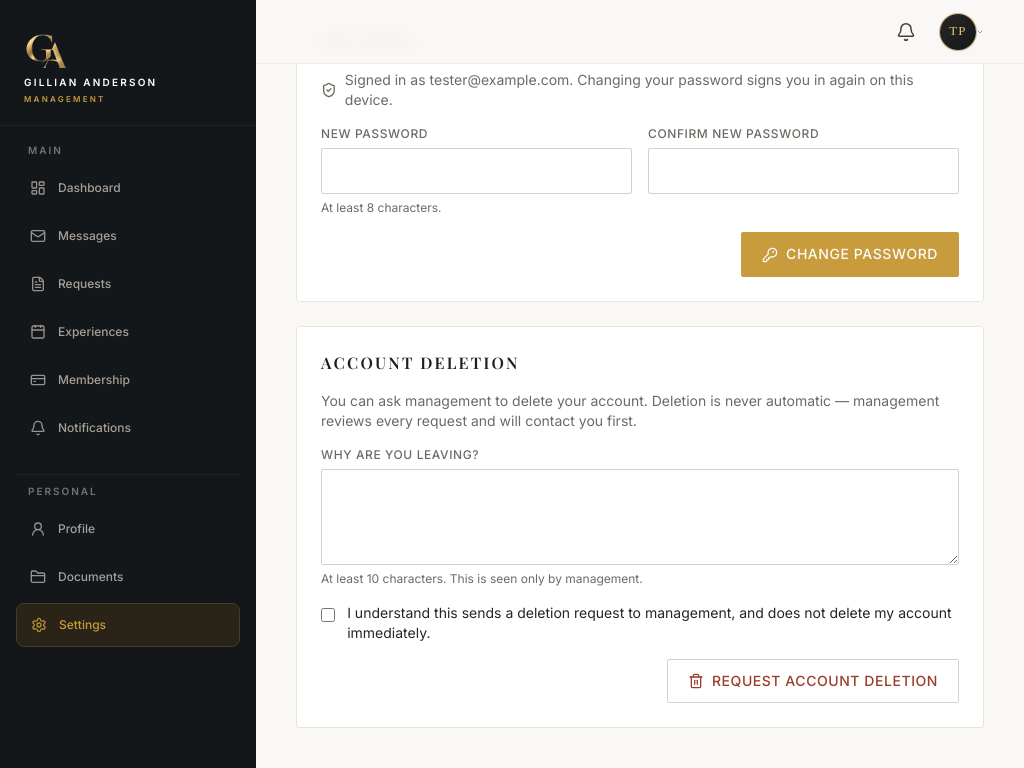
it: settings › sends an account deletion request to management instead of deleting
The width and height of the screenshot is (1024, 768).
(page scrolled)
Expected: the heading "Account deletion" is shown, top-left (321, 351), bottom-right (520, 375)
Type "I no longer need the platform." into the text box labelled "Why are you leaving?" at [640, 517], box top-left (321, 469), bottom-right (959, 565)
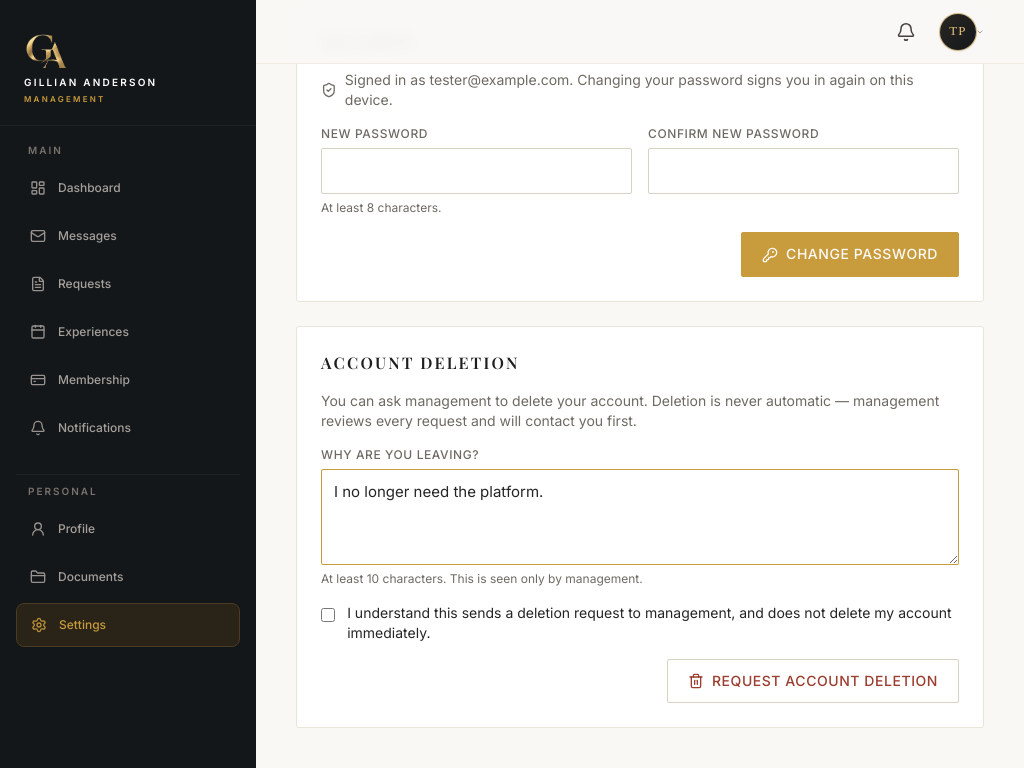
Click the checkbox labelled "I understand this sends a deletion request" at [328, 615], box top-left (321, 607), bottom-right (335, 623)
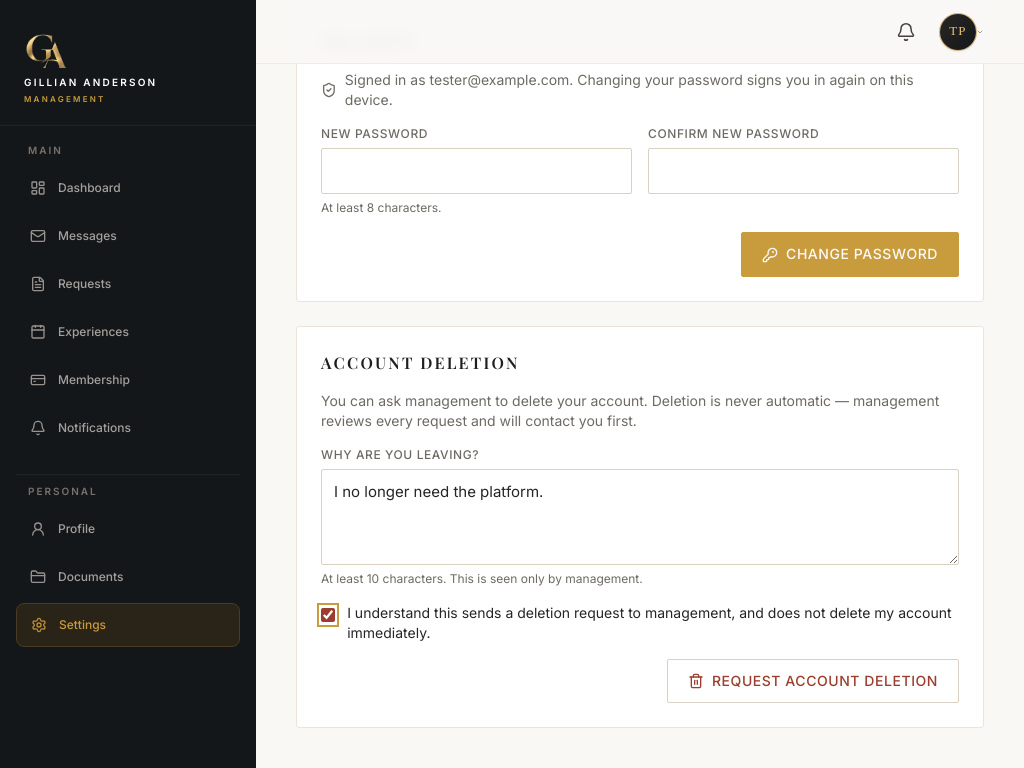
Click the button "Request account deletion" at [813, 681], box top-left (667, 659), bottom-right (959, 703)
(page scrolled)
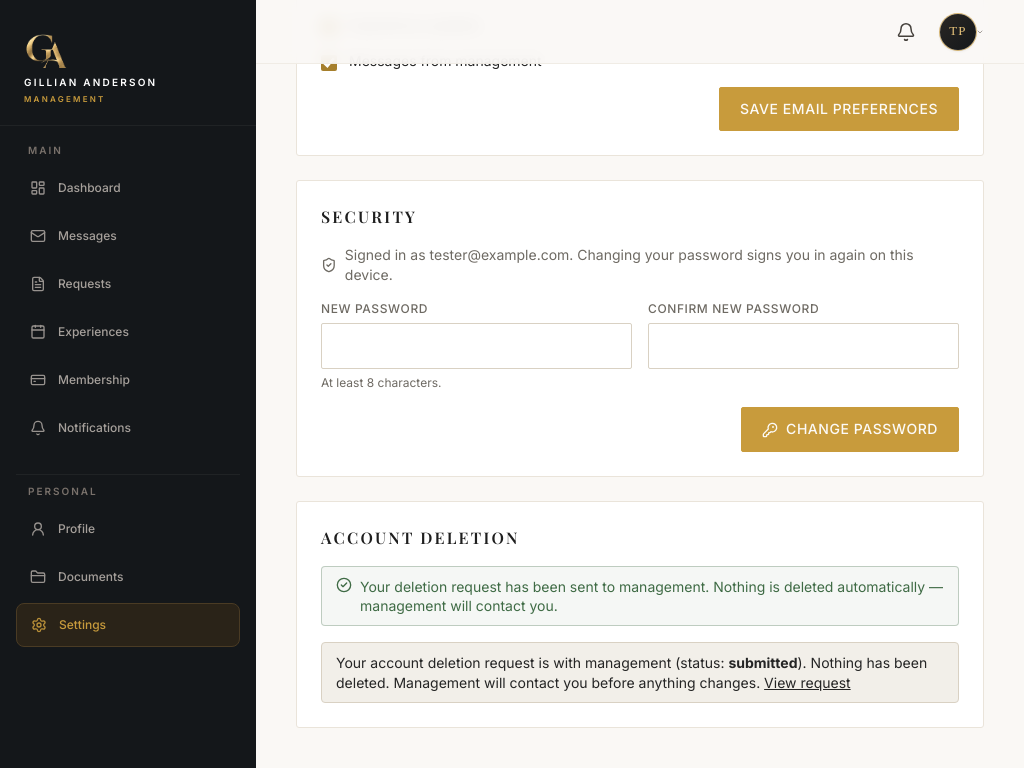
Result: the text "Your deletion request has been sent to management" is shown at top-left (360, 578), bottom-right (943, 614)
